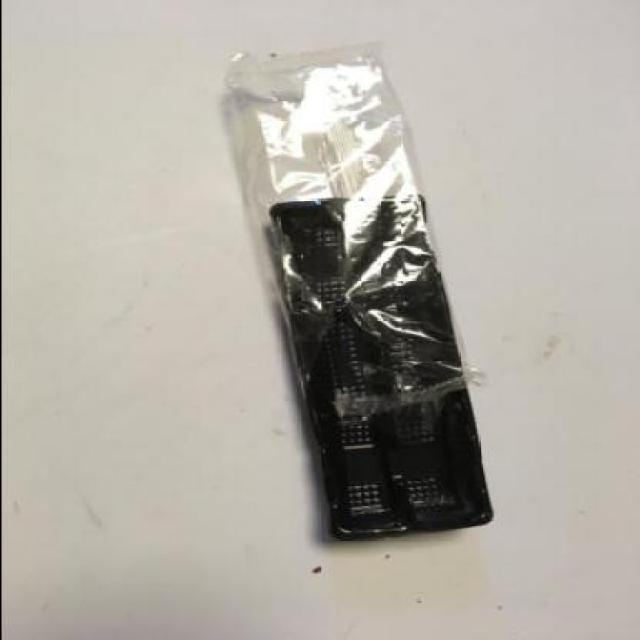PLASTIC: (223, 39, 482, 424), (268, 194, 488, 535)
